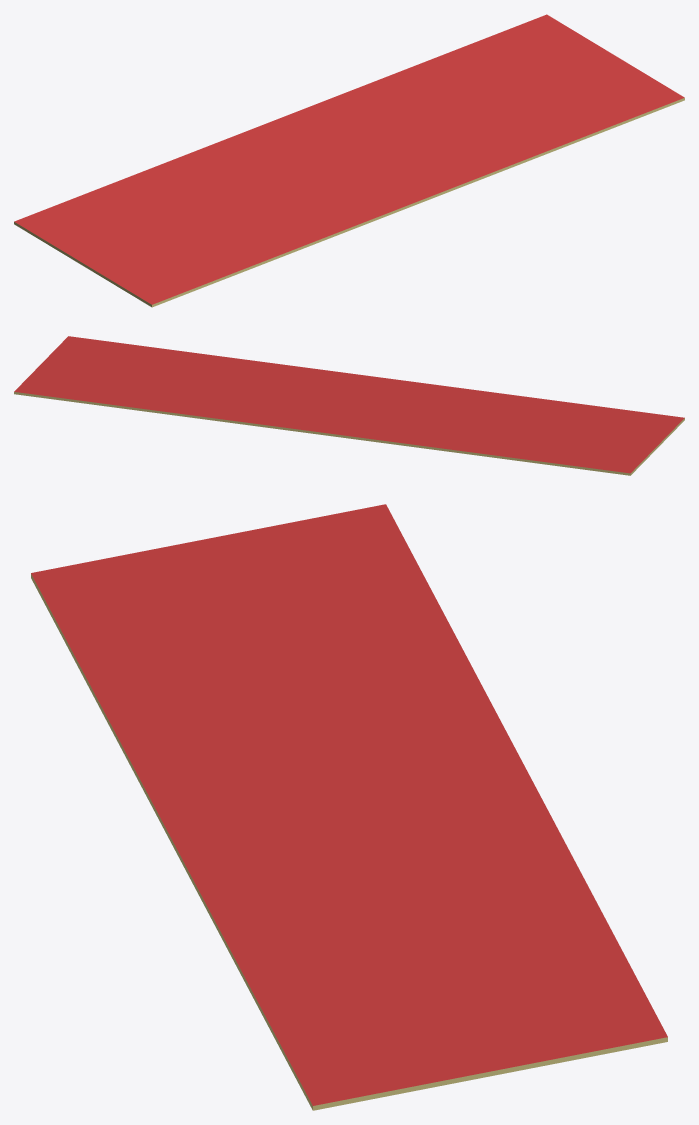
The picture shows the model from 3 angles, top to bottom: view 1: azimuth 30°, elevation 25°; view 2: azimuth 150°, elevation 25°; view 3: azimuth 270°, elevation 25°; orthographic projection. The views are drawn at different scales.
Size of the model in its own units: 25.48 by 12.11 by 0.842.
